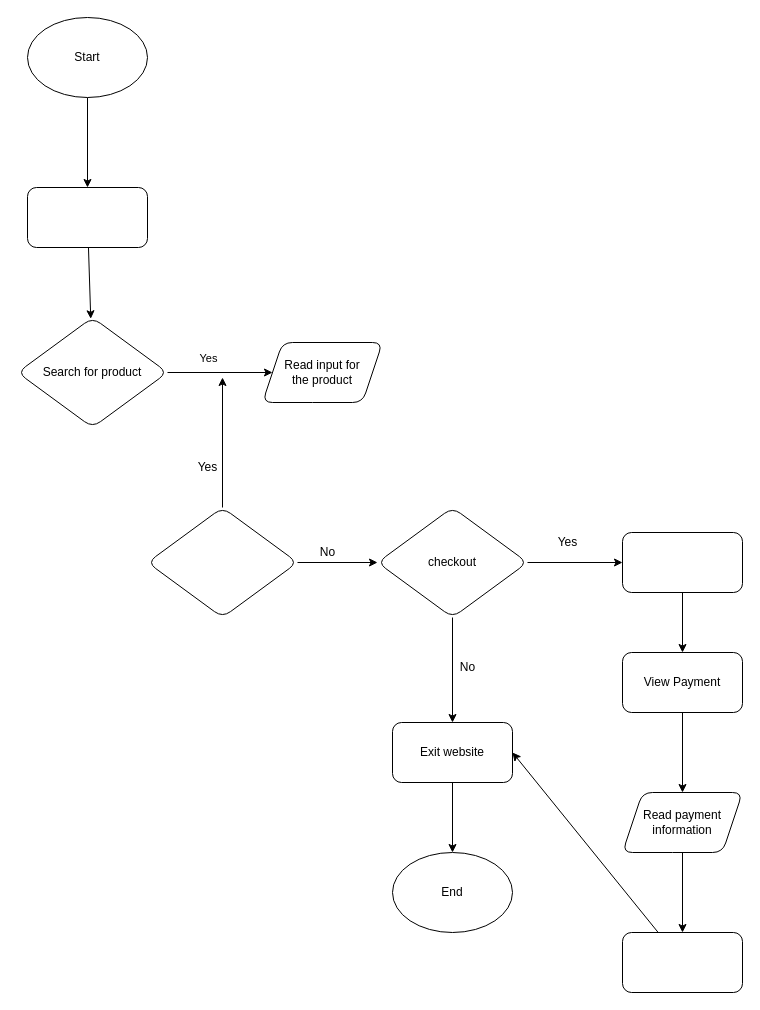
The diagram is 760 pixels wide and 1010 high, and some of its shapes have lost their labels. Here are the shapes that lost their labels. From the top down, the centre of each, then its label:
At [87,217]: "Enter the website".
At [222,562]: "continue shopping".
At [682,562]: "View Cart".
At [682,962]: "Order confirmation screen and receive email".
